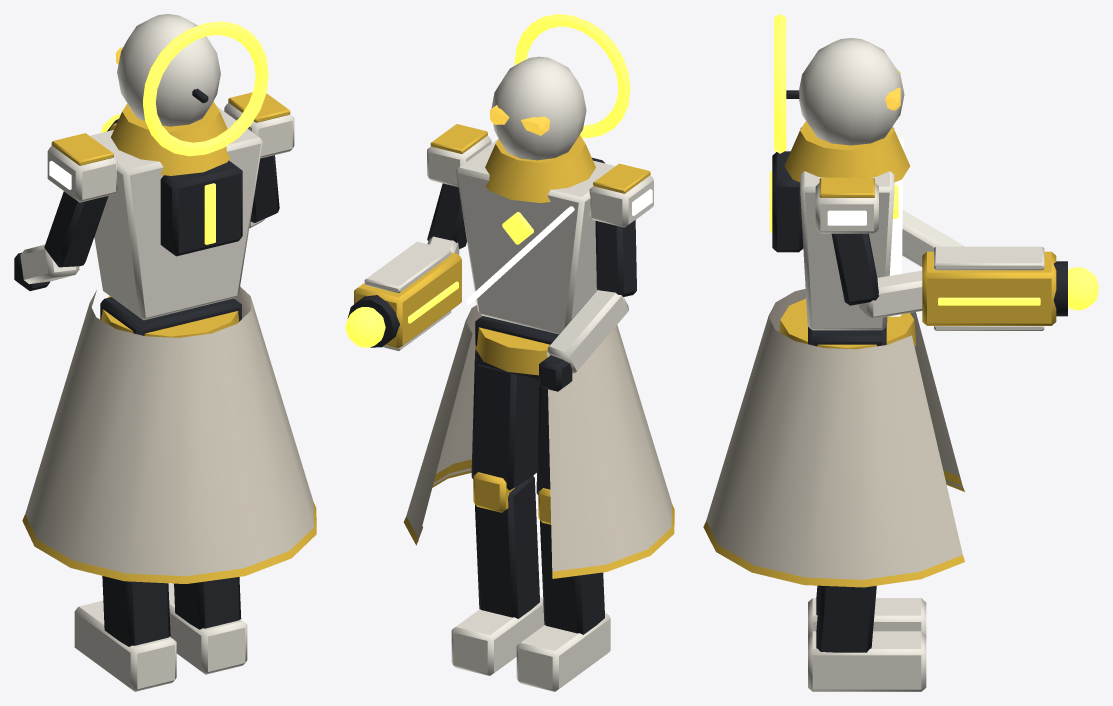
The model's file is hero_sol.glb.
The picture shows the model from 3 angles, left to right: view 1: azimuth 30°, elevation 25°; view 2: azimuth 150°, elevation 25°; view 3: azimuth 270°, elevation 25°; orthographic projection. The views are drawn at different scales.
Visible parts, largest first — view 1: hips, torso, head, legL, armL, legR, armR; view 2: hips, torso, legR, head, armL, legL, weapon, armR; view 3: hips, torso, weapon, head, legR, armR, legL, armL.
Boxes of the visible parts, x1,y1,x2,y2 form: hips: [22, 286, 316, 583]; torso: [89, 101, 262, 320]; head: [116, 14, 268, 156]; legL: [74, 576, 176, 691]; armL: [14, 133, 117, 291]; legR: [168, 577, 247, 674]; armR: [224, 92, 294, 228]; hips: [403, 305, 674, 578]; torso: [456, 135, 615, 334]; legR: [451, 353, 544, 675]; head: [490, 14, 630, 160]; armL: [539, 163, 653, 391]; legL: [516, 384, 610, 691]; weapon: [345, 241, 461, 350]; armR: [427, 124, 491, 254]; hips: [703, 289, 964, 587]; torso: [769, 121, 910, 330]; weapon: [922, 246, 1098, 330]; head: [774, 14, 904, 153]; legR: [808, 585, 926, 691]; armR: [815, 177, 922, 319]; legL: [808, 585, 926, 635]; armL: [902, 210, 963, 266].
Bounding box in the file's own units: 0.7251 × 1.81 × 1.
